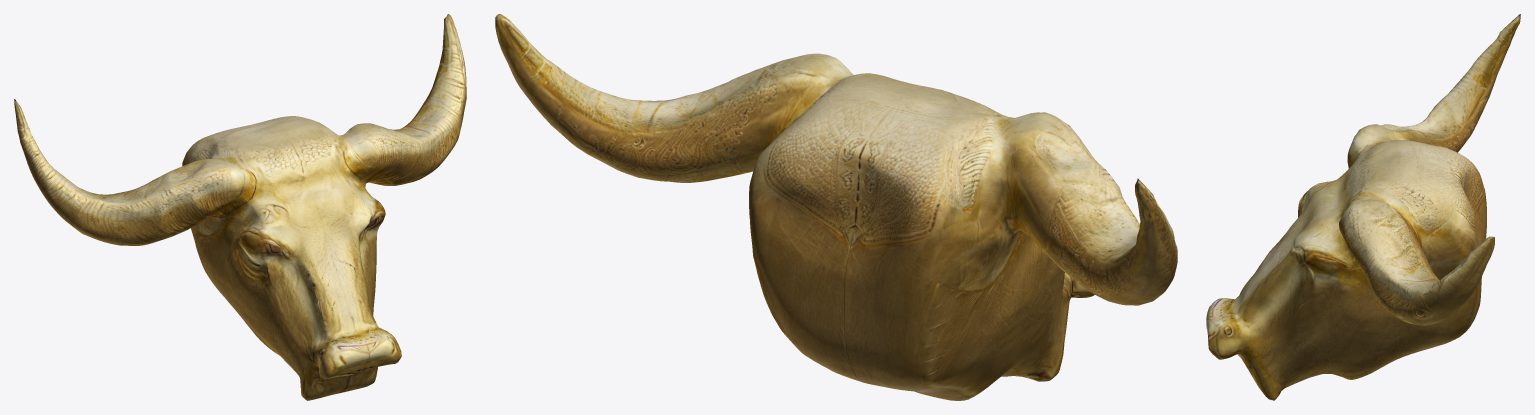
File: penguin.glb
The picture shows the model from 3 angles, left to right: view 1: azimuth 30°, elevation 25°; view 2: azimuth 150°, elevation 25°; view 3: azimuth 270°, elevation 25°; orthographic projection. The views are drawn at different scales.
Bounding box in the file's own units: 1.2 × 0.6899 × 0.732.
1 material, 1 textured.
